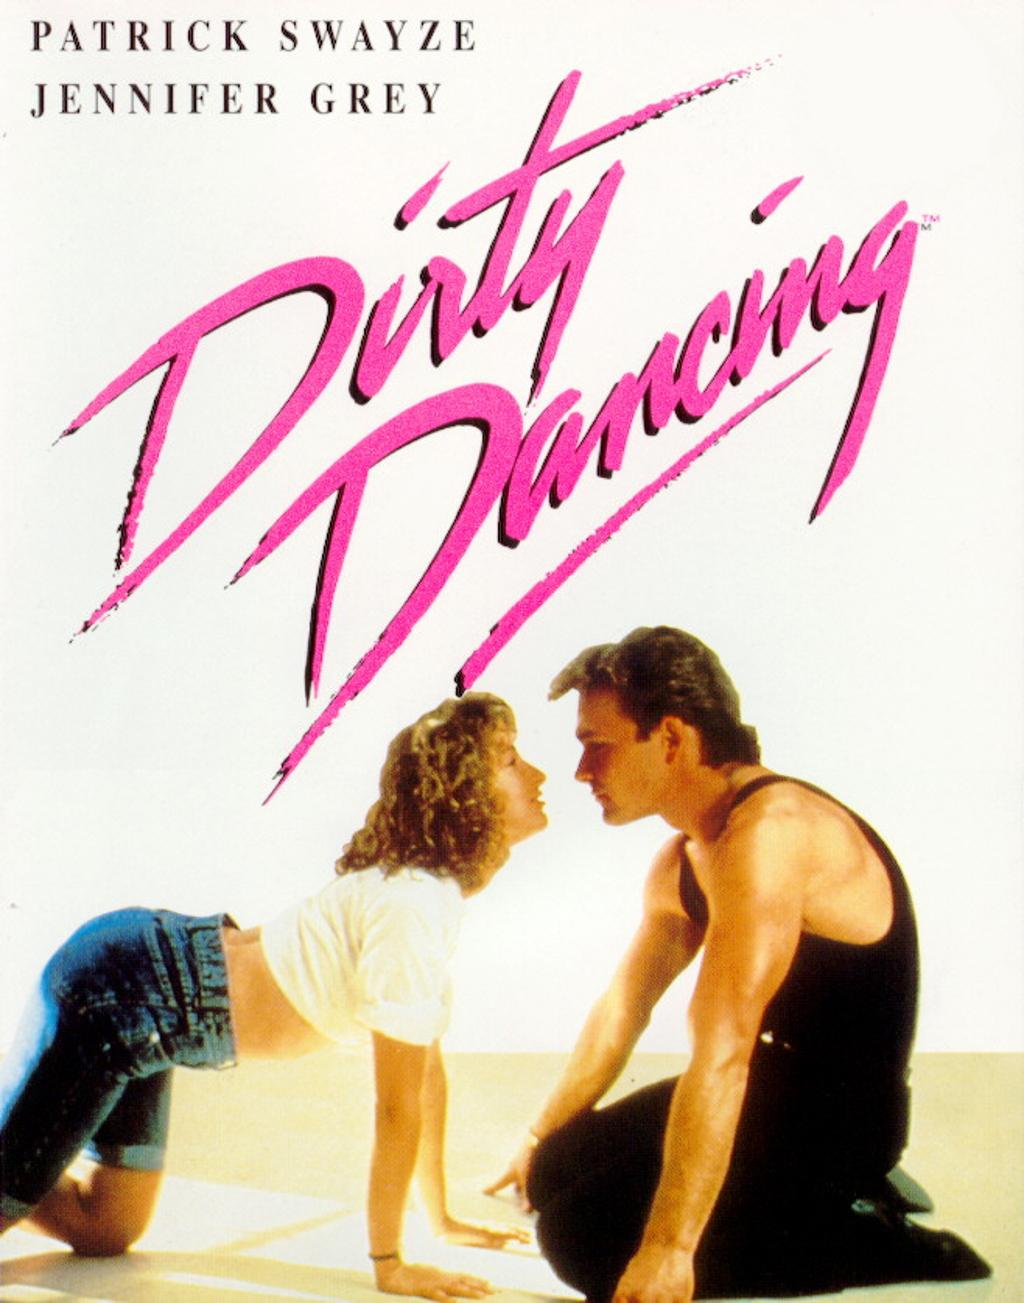face: (574, 684, 655, 826), (483, 719, 554, 826)
